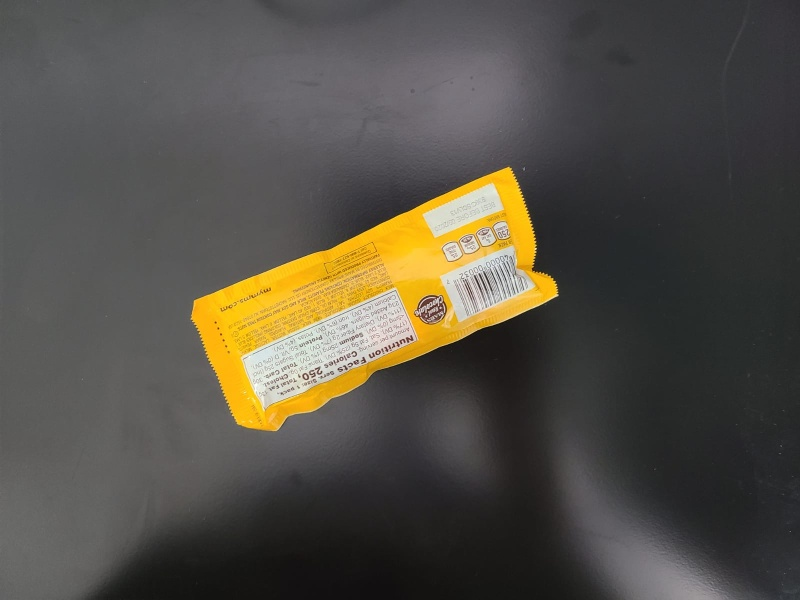m&m: (185, 160, 561, 437)
